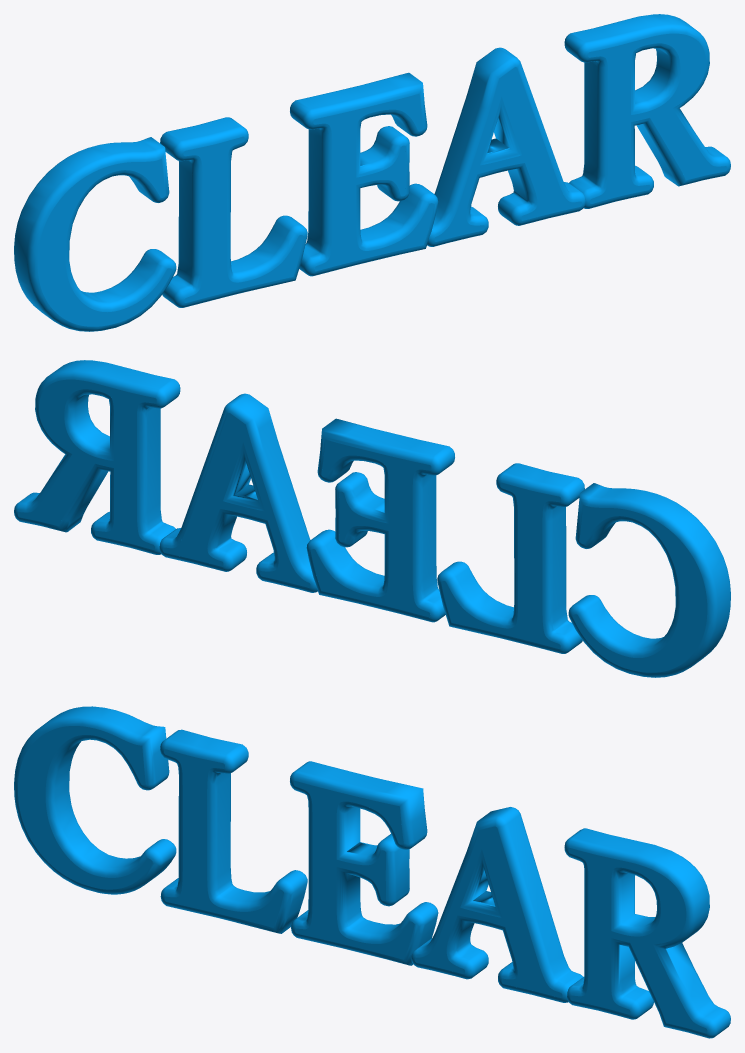
The model's file is clear.obj.
3 views of the same model, one above another, from view 1: azimuth 30°, elevation 25°; view 2: azimuth 150°, elevation 25°; view 3: azimuth 330°, elevation 25° (orthographic).
Parts seen in each view (by area): view 1: テキスト; view 2: テキスト; view 3: テキスト.
Part boxes in pixels (x1,y1,x2,y2): テキスト: [14, 14, 730, 331]; テキスト: [14, 360, 730, 677]; テキスト: [14, 706, 730, 1038].
Size of the model in its own units: 2.05 by 0.4847 by 0.1.
Materials: 1 (1 with a texture image).
